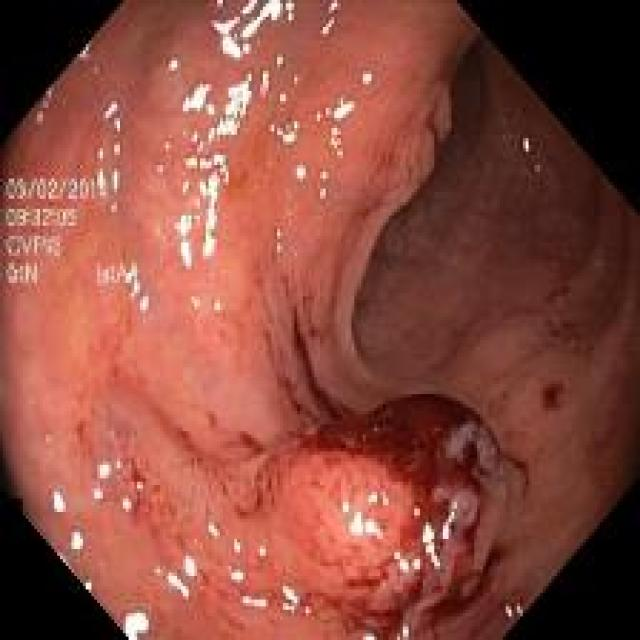Polyps: (270, 396, 506, 640)
